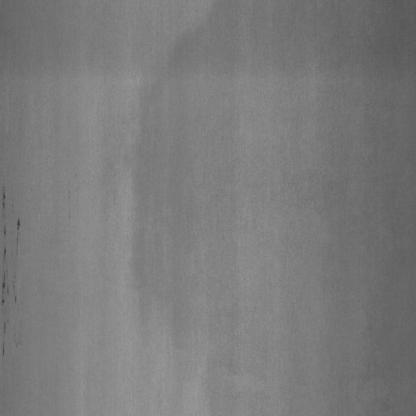inclusion: (10, 218, 22, 234), (1, 190, 11, 209), (1, 317, 10, 338), (0, 246, 11, 260), (1, 273, 9, 289), (1, 222, 7, 237), (13, 289, 18, 304)
